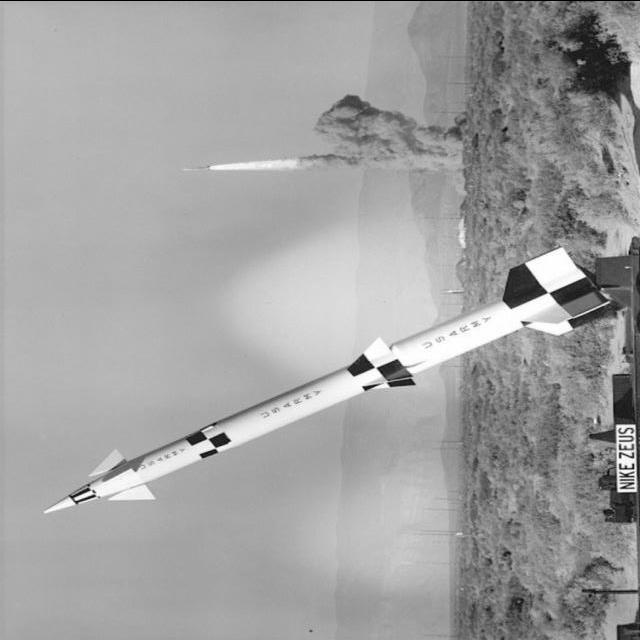Missile: (40, 244, 604, 522), (181, 161, 215, 172)
